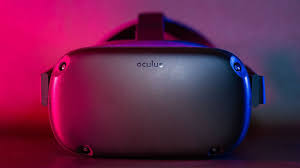oculus: (39, 38, 266, 160)
